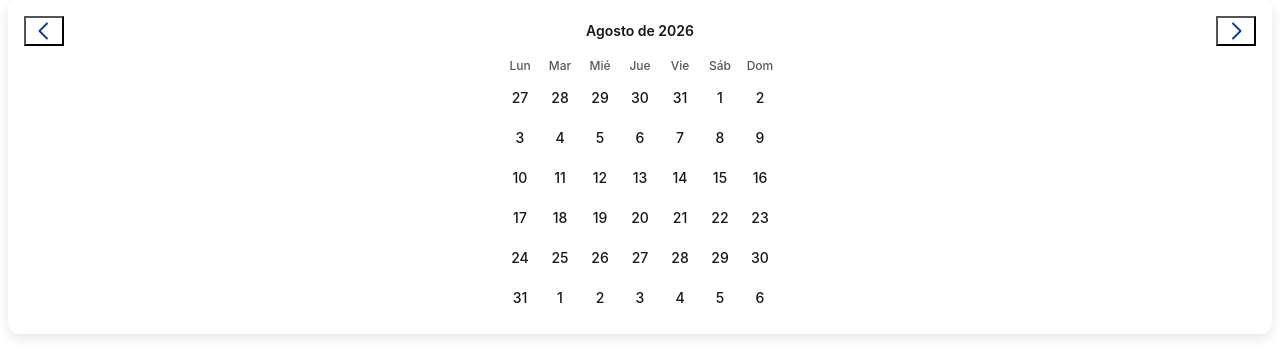
Calendar › Navegación › cambia de mes con anterior y siguiente
Click the button named "Mes siguiente" at [1236, 31], box [1216, 16, 1256, 46]
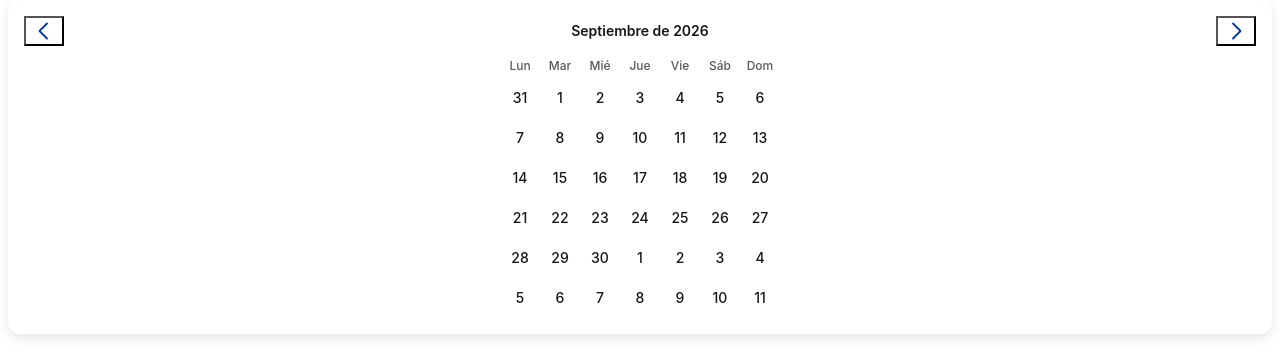
Check: the heading "Septiembre de 2026" is shown, box [571, 22, 709, 39]
Click the button named "Mes anterior" at [44, 31], box [24, 16, 64, 46]
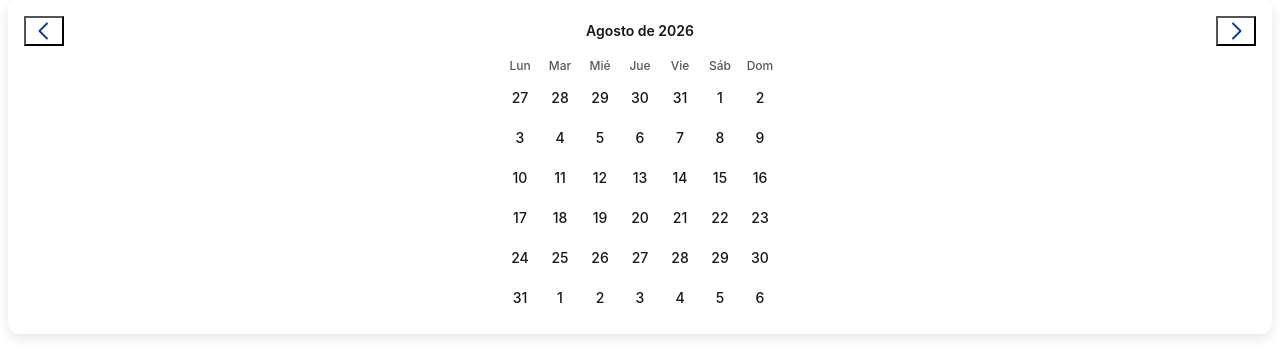
Check: the heading "Agosto de 2026" is shown, box [586, 22, 694, 39]
